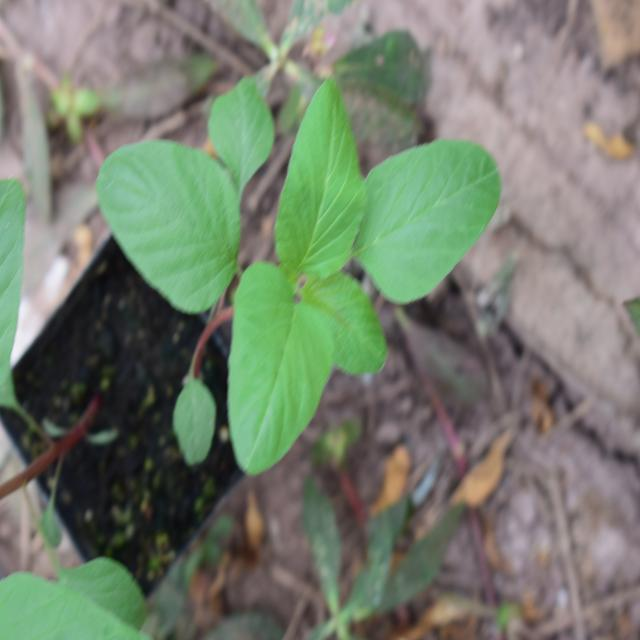pigweed: (107, 46, 473, 456)
